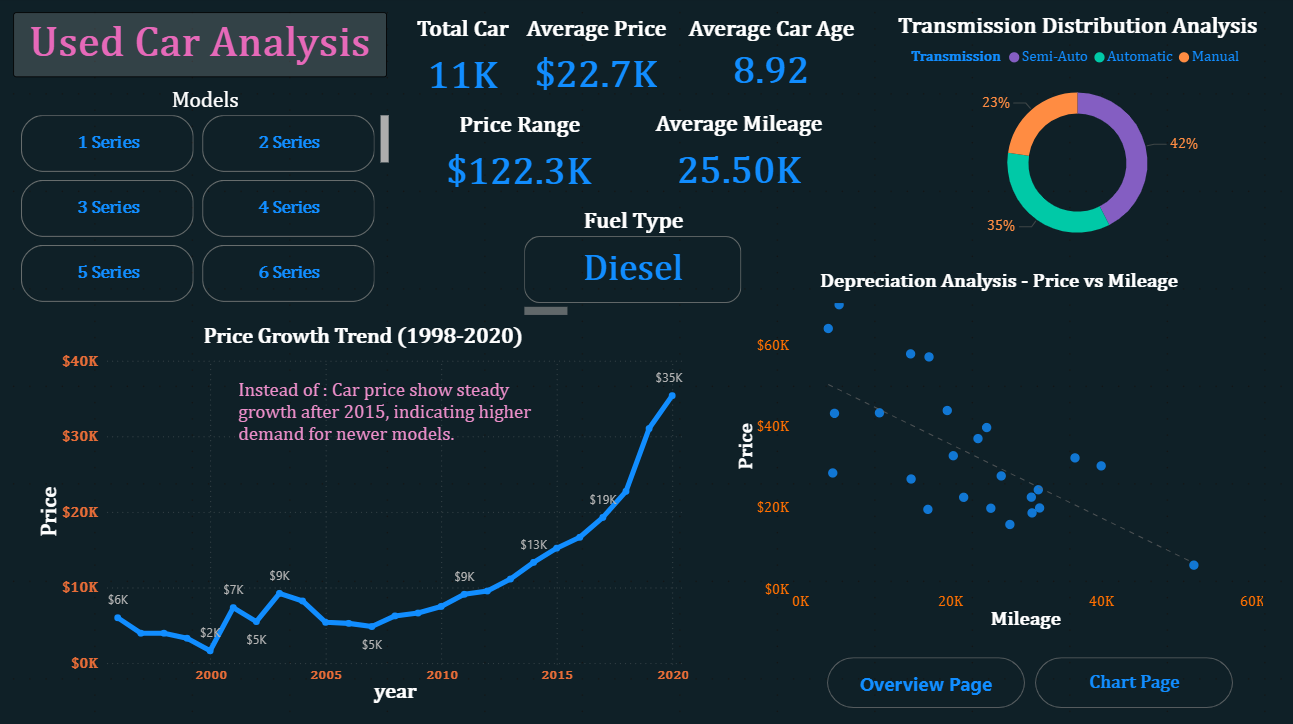

Layout of this report page (visuals, bound fields, positions):
{"tool":"powerbi","page":{"name":"Overview Page","canvas":[1280,720],"ordinal":0},"visuals":[{"type":"cardVisual","title":"Total Car ","fields":{"Data":["bmw.Total Car"]},"box":[391.4,19.7,134.2,94.8],"z":0},{"type":"cardVisual","title":"Average Mileage ","fields":{"Data":["bmw.Average Mileage"]},"box":[626.5,113.2,208,96],"z":1000},{"type":"cardVisual","title":"Average Price ","fields":{"Data":["bmw.Average Price"]},"box":[494.8,19.7,190.8,93.5],"z":2000},{"type":"lineChart","title":"Price Growth Trend (1998-2020)","fields":{"Category":["bmw.year"],"Y":["bmw.Average Price"]},"box":[34.4,323.9,651.5,377.9],"z":3000},{"type":"advancedSlicerVisual","fields":{"Values":["bmw.Fuel Type"]},"box":[514.5,209.2,224,112],"z":4000},{"type":"donutChart","title":"Transmission Distribution Analysis","fields":{"Category":["bmw.transmission"],"Y":["bmw.Average Price"]},"box":[848,17.2,432,240],"z":5000},{"type":"pageNavigator","box":[817.2,651.5,400,50.3],"z":6000},{"type":"textbox","box":[233.1,373,316.6,76.1],"z":7000},{"type":"scatterChart","title":"Depreciation Analysis - Price vs Mileage","fields":{"X":["bmw.Average Mileage"],"Y":["bmw.Average Price"],"Category":["bmw.model"]},"box":[721.2,269.5,530.5,359.4],"z":8000},{"type":"textbox","box":[16,16,368,64],"z":9000},{"type":"advancedSlicerVisual","title":"Models","fields":{"Values":["bmw.model"]},"box":[18.5,91.1,372.9,216.6],"z":10000},{"type":"cardVisual","title":"Price Range ","fields":{"Data":["bmw.Price Range"]},"box":[411.1,114.5,206.8,94.8],"z":11000},{"type":"cardVisual","title":"Average Car Age ","fields":{"Data":["bmw.Average Car Age"]},"box":[664.6,19.7,195.7,87.4],"z":12000}]}

Visuals, with their boxes in screenshot pixels (x1, y1, x2, y2), scaled from the page's 1280x720 canvas onto the 1293x724 screenshot:
"Total Car " cardVisual: detection(395, 20, 531, 115)
"Average Mileage " cardVisual: detection(633, 114, 843, 210)
"Average Price " cardVisual: detection(500, 20, 693, 114)
"Price Growth Trend (1998-2020)" lineChart: detection(35, 326, 693, 706)
advancedSlicerVisual - bmw.Fuel Type: detection(520, 210, 746, 323)
"Transmission Distribution Analysis" donutChart: detection(857, 17, 1292, 259)
pageNavigator: detection(825, 655, 1230, 706)
textbox: detection(235, 375, 555, 452)
"Depreciation Analysis - Price vs Mileage" scatterChart: detection(729, 271, 1264, 632)
textbox: detection(16, 16, 388, 80)
"Models" advancedSlicerVisual: detection(19, 92, 395, 309)
"Price Range " cardVisual: detection(415, 115, 624, 210)
"Average Car Age " cardVisual: detection(671, 20, 869, 108)
